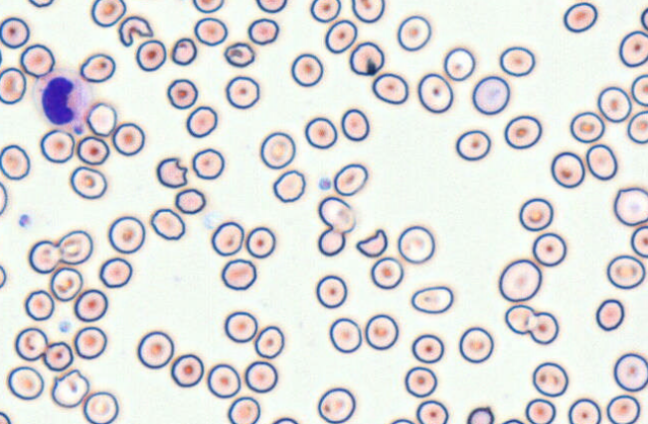MONO: (32, 66, 93, 132)
PLT: (18, 214, 33, 230), (58, 320, 73, 333), (317, 177, 332, 190)
RBC: (498, 258, 542, 302), (50, 368, 89, 408), (471, 75, 510, 115), (136, 330, 174, 369), (107, 215, 145, 254), (397, 225, 435, 264), (417, 72, 453, 113), (317, 196, 355, 233), (317, 386, 355, 423), (259, 131, 295, 169), (606, 254, 645, 289), (503, 114, 542, 149), (613, 352, 647, 392), (613, 186, 647, 226), (6, 365, 44, 400), (57, 229, 93, 265), (532, 361, 568, 397), (458, 326, 493, 363), (550, 151, 585, 188), (396, 14, 431, 51), (69, 165, 107, 199), (597, 86, 632, 122), (364, 313, 398, 350), (410, 285, 453, 314), (206, 363, 241, 398), (39, 128, 74, 163), (328, 317, 362, 353), (82, 390, 119, 423), (49, 266, 83, 301), (19, 43, 54, 77), (73, 288, 108, 322), (210, 221, 244, 256), (518, 197, 553, 231), (333, 162, 368, 196), (349, 41, 384, 75), (585, 143, 617, 180), (371, 72, 408, 104), (14, 327, 48, 361), (170, 353, 204, 387), (532, 232, 566, 266), (111, 122, 145, 156), (225, 75, 259, 109), (150, 207, 185, 240), (290, 52, 323, 87), (220, 258, 256, 290), (455, 129, 491, 161), (569, 111, 605, 143), (324, 19, 357, 53), (73, 326, 107, 359), (223, 310, 257, 343), (244, 360, 278, 393), (272, 169, 305, 203), (85, 101, 117, 136), (563, 1, 598, 33), (499, 45, 535, 76), (370, 256, 403, 289), (304, 116, 337, 149), (28, 239, 60, 273), (315, 274, 347, 308), (443, 47, 475, 81), (0, 144, 30, 180), (79, 52, 115, 82), (618, 30, 647, 67), (527, 311, 559, 344), (404, 366, 437, 398), (185, 105, 217, 138), (191, 147, 224, 179), (98, 257, 132, 288), (253, 325, 284, 359), (166, 78, 198, 109), (135, 39, 166, 71), (76, 135, 109, 165), (411, 333, 444, 363), (0, 66, 26, 104), (606, 394, 640, 423), (193, 17, 227, 46), (90, 0, 126, 27), (24, 289, 54, 321), (245, 226, 275, 258), (595, 298, 624, 331), (340, 108, 369, 141), (504, 304, 535, 334), (42, 341, 73, 371), (0, 16, 29, 48), (247, 17, 279, 45), (227, 396, 260, 423), (567, 397, 601, 423), (174, 187, 205, 214), (223, 41, 255, 67), (317, 227, 345, 256), (524, 398, 556, 423), (415, 399, 448, 423), (351, 0, 384, 23), (309, 0, 341, 23), (627, 110, 647, 144), (630, 225, 647, 258), (631, 73, 647, 106), (466, 406, 494, 423), (192, 0, 224, 13), (255, 0, 287, 13), (0, 181, 8, 215), (640, 6, 648, 31), (271, 416, 299, 423), (28, 0, 54, 7), (389, 417, 415, 423), (0, 264, 6, 288), (0, 411, 11, 423), (500, 418, 524, 423)
Schistocyte: (119, 15, 154, 48), (157, 157, 188, 188), (355, 229, 387, 257), (172, 37, 196, 64)
